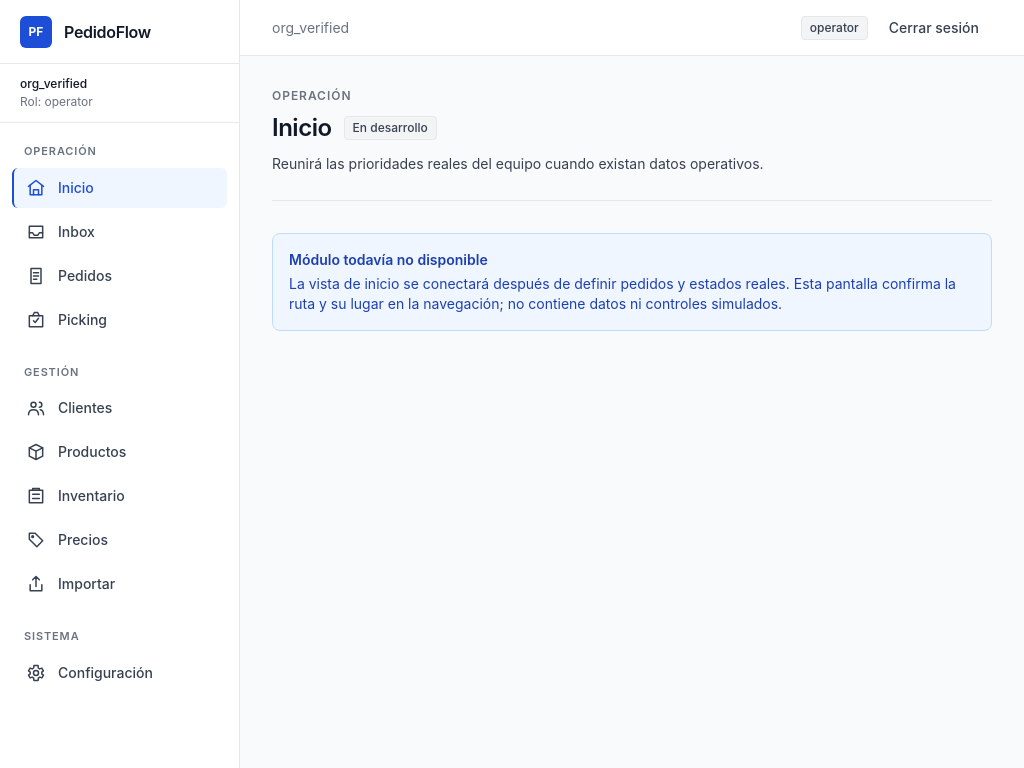
Test case: logout flow › revokes the session and returns to login
What coordinates should you click on to do the following:
click the button "Cerrar sesión"
I would click on:
 (934, 28)
Its box is [876,10,992,46].
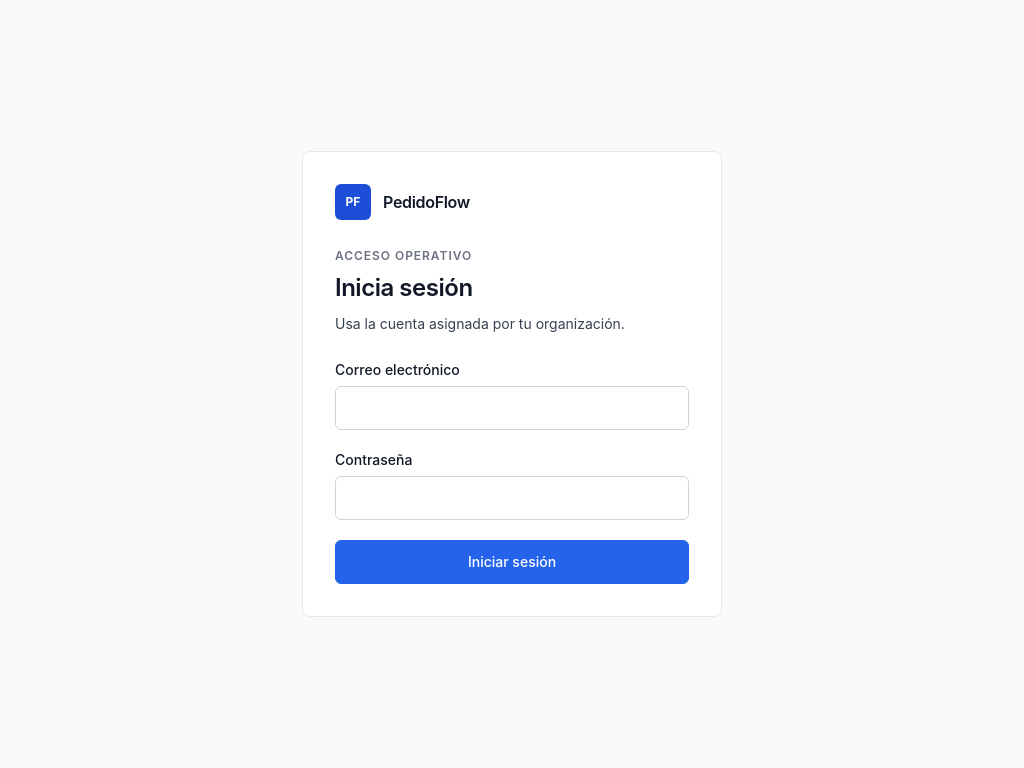
Expected: the heading "Inicia sesión" is shown, [335,273,473,302]
